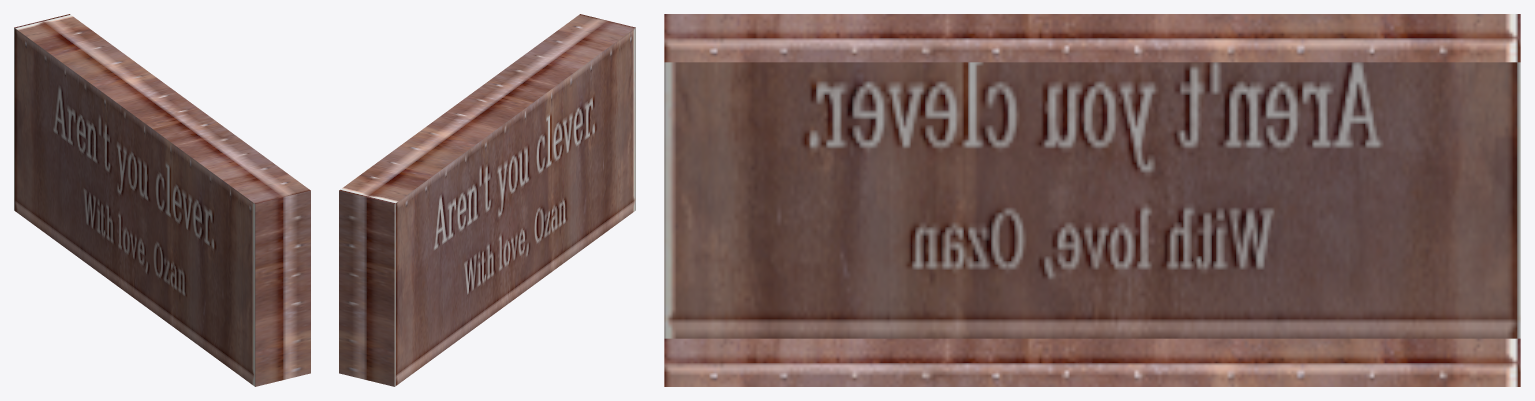
Rendered from ozan_arentyouclever.fbx.
3 views of the same model, side by side, from view 1: azimuth 30°, elevation 25°; view 2: azimuth 150°, elevation 25°; view 3: azimuth 270°, elevation 25° (orthographic). The views are drawn at different scales.
Parts seen in each view (by area): view 1: Bazaar Complex Easteregg; view 2: Bazaar Complex Easteregg; view 3: Bazaar Complex Easteregg.
Boxes of the visible parts, x1,y1,x2,y2 form: Bazaar Complex Easteregg: [14, 14, 310, 386]; Bazaar Complex Easteregg: [339, 14, 635, 386]; Bazaar Complex Easteregg: [664, 14, 1520, 386].
Size of the model in its own units: 0.3361 by 1.06 by 2.52.
